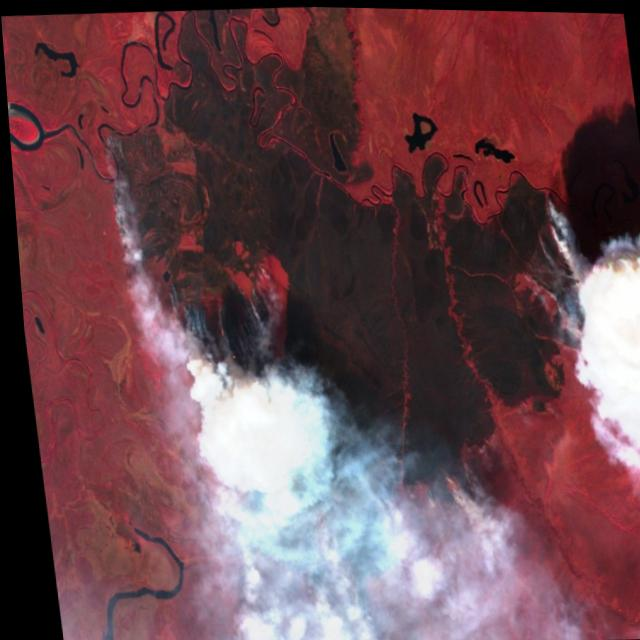fire: (90, 92, 640, 628)
